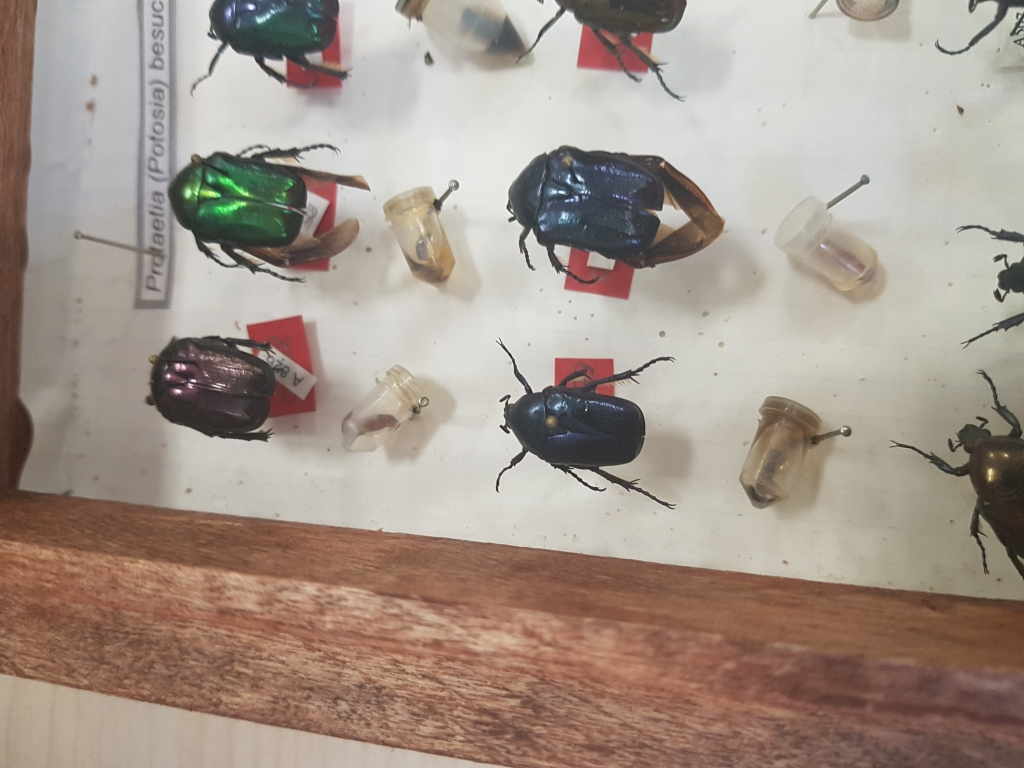Protaetia_besucheti: (473, 325, 701, 525), (500, 135, 735, 288), (156, 135, 368, 287), (141, 326, 312, 451)
